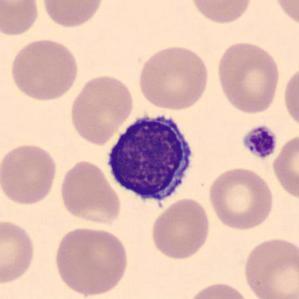Lymphocyte: (102, 107, 200, 209)
Platelets: (240, 123, 280, 161)
RBC: (52, 225, 132, 297), (214, 39, 282, 115), (135, 43, 211, 111), (68, 71, 136, 146), (7, 36, 81, 103), (206, 164, 276, 232), (57, 158, 123, 227), (149, 197, 212, 261), (0, 141, 59, 207), (240, 234, 298, 299), (0, 217, 37, 285), (38, 0, 106, 29), (270, 132, 298, 202), (187, 0, 255, 25), (0, 0, 42, 38), (185, 280, 254, 299), (281, 62, 299, 132), (270, 0, 298, 30)
